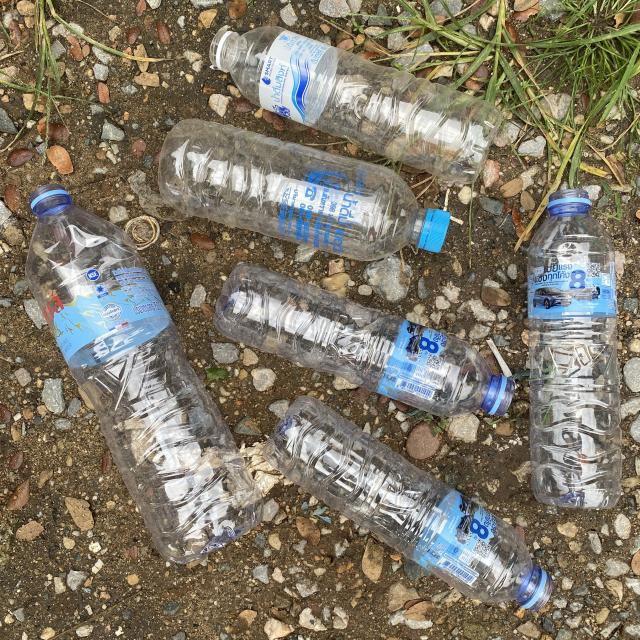plastik: (25, 184, 262, 564), (262, 396, 554, 611), (210, 26, 502, 184), (214, 264, 515, 416), (159, 119, 450, 260), (528, 189, 622, 509)
